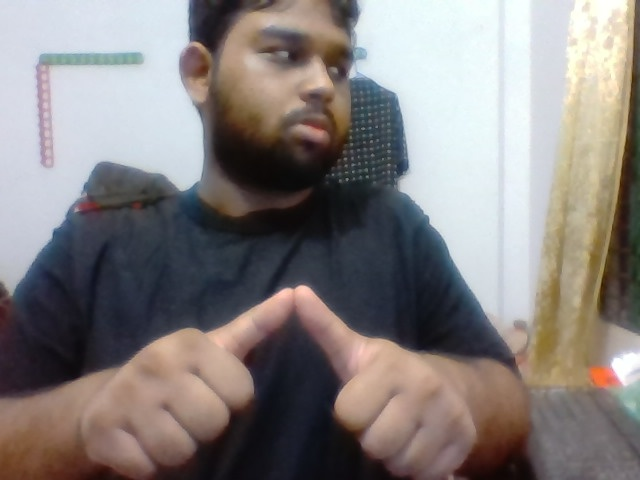A: (89, 276, 482, 480)
